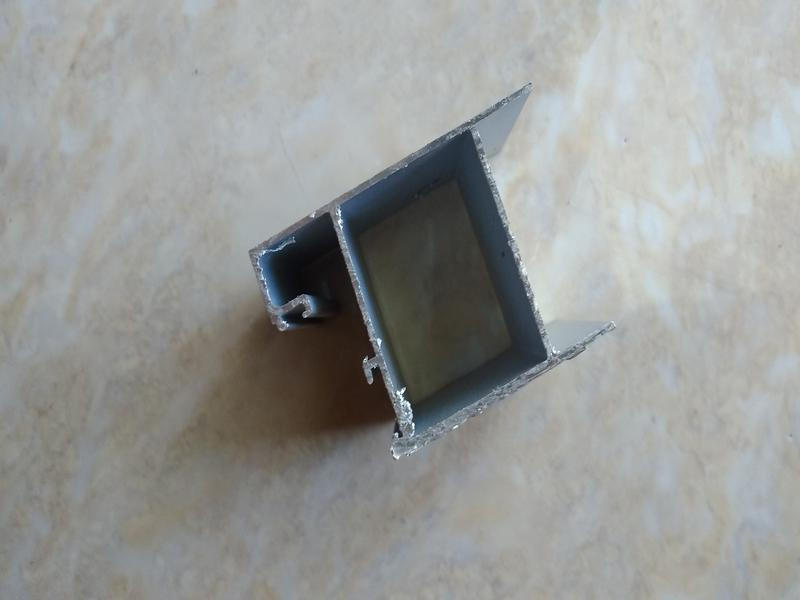Aluminium_2: (208, 74, 665, 484)
